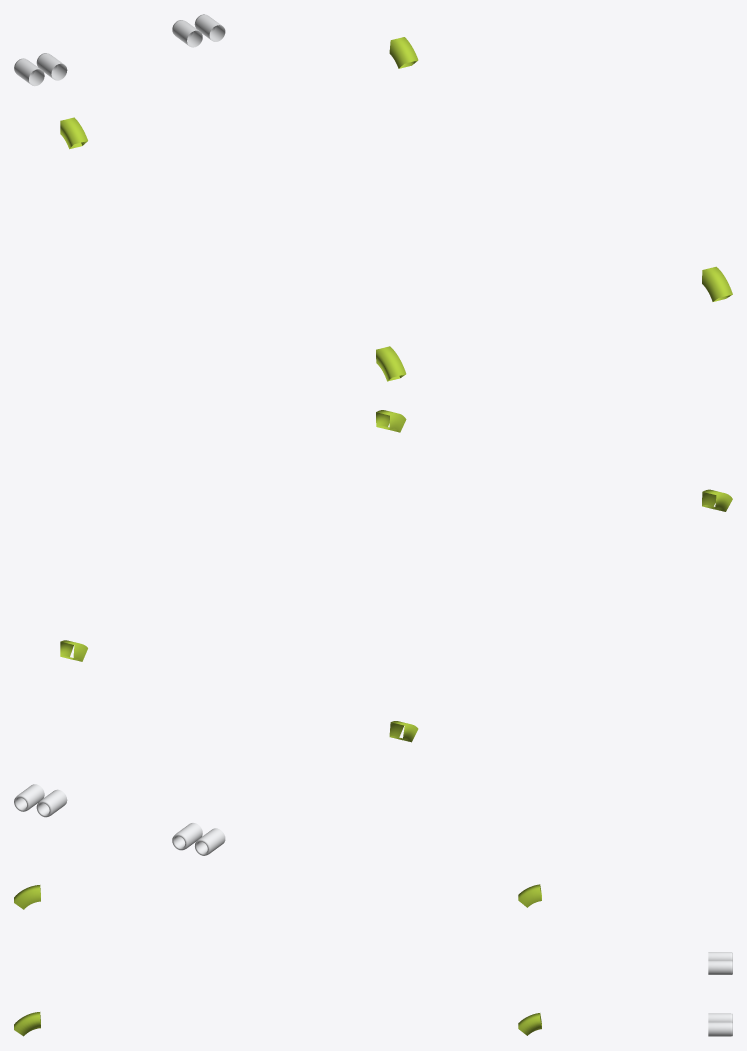
File: nordvik-varg.glb
3 views of the same model, one above another, from view 1: azimuth 30°, elevation 25°; view 2: azimuth 150°, elevation 25°; view 3: azimuth 270°, elevation 25° (orthographic). The views are drawn at different scales.
Parts seen in each view (by area): view 1: Exhaust, Caliper_FL, Caliper_FR, Caliper_RL, Caliper_RR; view 2: Exhaust; view 3: Exhaust, Caliper_FR, Caliper_FL, Caliper_RR, Caliper_RL.
Part boxes in pixels (x1,y1,x2,y2): Exhaust: (14,14,225,86); Caliper_FL: (702,266,732,301); Caliper_FR: (376,346,406,381); Caliper_RL: (389,37,418,68); Caliper_RR: (60,117,87,149); Exhaust: (14,784,225,855); Exhaust: (708,952,732,1036); Caliper_FR: (14,885,40,909); Caliper_FL: (14,1012,40,1036); Caliper_RR: (518,884,541,907); Caliper_RL: (518,1013,541,1035).
Size of what is drawn, in the model's own units: 1.83 by 0.3174 by 4.15.
